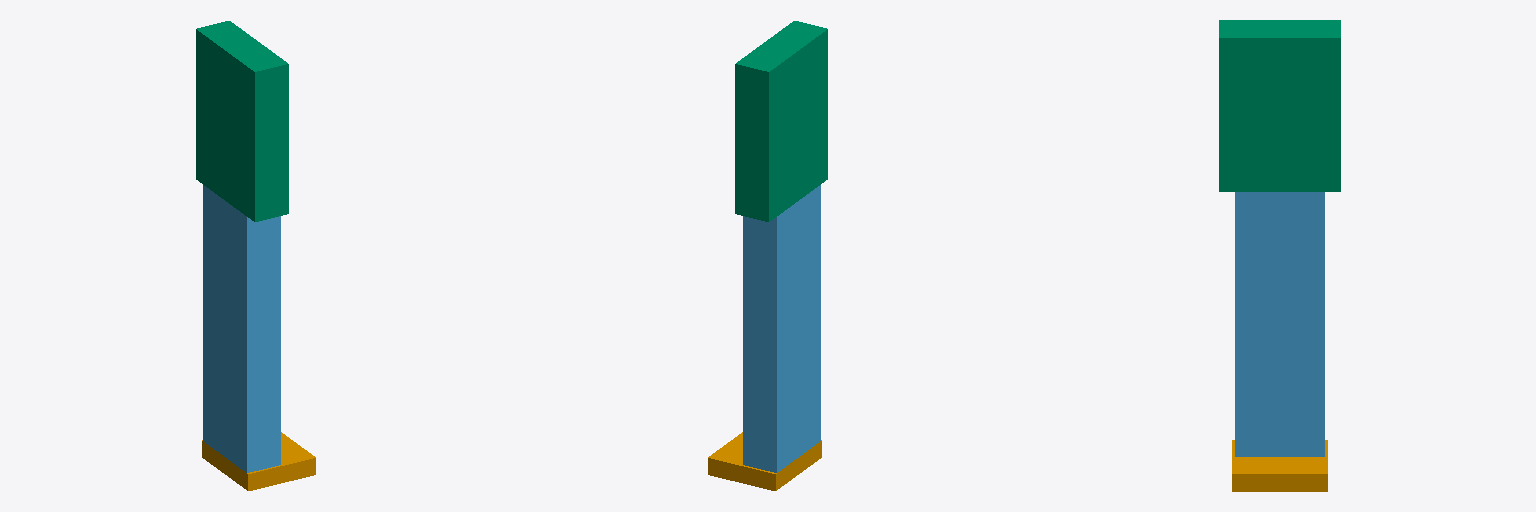
URDF robot description (threeLinkHuman_subject9):
<robot name="threeLinkHuman_subject9">
    <link name="foot">
        <inertial>
            <mass value="5.0758"/>
            <origin xyz="0 0 0.028365" rpy="0 0 0" />
            <inertia ixx="0.033933" iyy="0.024702" izz="0.055912" ixy="0" ixz="0" iyz="0"/>
        </inertial>

        <visual>
			<origin xyz="0 0 0.028365" rpy="0 0 0" />
            <geometry>
                <box size="0.23491 0.2775 0.05673"/>
            </geometry>
        </visual>

        <collision>
			<origin xyz="0 0 0.028365" rpy="0 0 0" />
            <geometry>
                <box size="0.23491 0.2775 0.05673"/>
            </geometry>
        </collision>
    </link>
    
    <link name="leg">
        <inertial>
            <mass value="35.6055"/>
            <origin xyz="0 0 0.42351" rpy="0 0 0" />
            <inertia ixx="2.3305" iyy="2.1696" izz="0.24267" ixy="0" ixz="0" iyz="0"/>
        </inertial>

        <visual>
            <origin xyz="0 0 0.42351" rpy="0 0 0" />
            <geometry>
                <box size="0.11745 0.26075 0.84702"/>
            </geometry>
        </visual>

        <collision>
            <origin xyz="0 0 0.42351" rpy="0 0 0" />
            <geometry>
                <box size="0.11745 0.26075 0.84702"/>
            </geometry>
        </collision>
    </link>
    
    <link name="torso">
        <inertial>
            <mass value="28.3345"/>
            <origin xyz="0 0 0.24796" rpy="0 0 0" />
            <inertia ixx="0.87728" iyy="0.61327" izz="0.32916" ixy="0" ixz="0" iyz="0"/>
        </inertial>

        <visual>
            <origin xyz="0 0 0.24796" rpy="0 0 0" />
            <geometry>
                <box size="0.11745 0.35441 0.49591"/>
            </geometry>
        </visual>

        <collision>
            <origin xyz="0 0 0.24796" rpy="0 0 0" />
            <geometry>
                <box size="0.11745 0.35441 0.49591"/>
            </geometry>
        </collision>
    </link>
        
    <joint name="ankle" type="revolute">
        <origin xyz="-0.058726 0 0.05673" rpy="0 0 0"/>
        <parent link="foot"/>
        <child link="leg"/>
        <dynamics damping="0.1" friction="0.0"/>
        <limit effort="30" velocity="1.0" lower="-10.0" upper="10.0" />
        <axis xyz="0 1 0" />
    </joint>
    
    <joint name="hip" type="revolute">
        <origin xyz="0 0 0.84702" rpy="0 0 0"/>
        <parent link="leg"/>
        <child link="torso"/>
        <dynamics damping="0.1" friction="0.0"/>
        <limit effort="30" velocity="1.0" lower="-10.0" upper="10.0" />
        <axis xyz="0 1 0" />
    </joint>

</robot>

--- What the picture shows (computed from the rendered views, not written in the file) ---
The picture shows the robot from 3 angles, left to right: view 1: azimuth 30°, elevation 25°; view 2: azimuth 150°, elevation 25°; view 3: azimuth 270°, elevation 25°; orthographic projection.
Model threeLinkHuman_subject9 with 3 links and 2 joints (2 revolute), rooted at foot, posed every joint at zero.
Links seen in each view (by area): view 1: leg, torso, foot; view 2: leg, torso, foot; view 3: leg, torso, foot.
Link boxes in pixels (left/top/right/bottom): leg: left=203, top=185, right=280, bottom=472; torso: left=196, top=21, right=288, bottom=221; foot: left=202, top=432, right=315, bottom=490; leg: left=743, top=185, right=820, bottom=472; torso: left=735, top=21, right=827, bottom=221; foot: left=708, top=432, right=821, bottom=490; leg: left=1235, top=192, right=1324, bottom=456; torso: left=1219, top=20, right=1340, bottom=191; foot: left=1232, top=440, right=1327, bottom=491.
Bounding box of the posed robot: 0.2349 × 0.3544 × 1.4 m (x, y, z).
Geometry: primitives only (box / cylinder / sphere), no mesh files.
